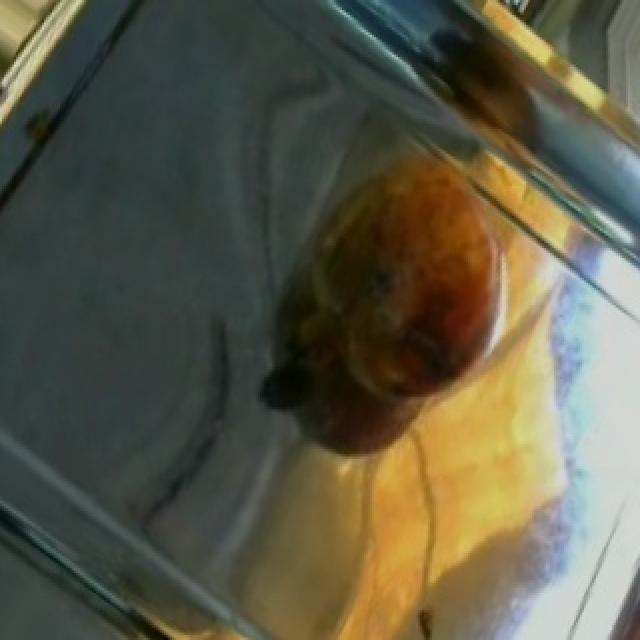fruit: (308, 161, 538, 437)
